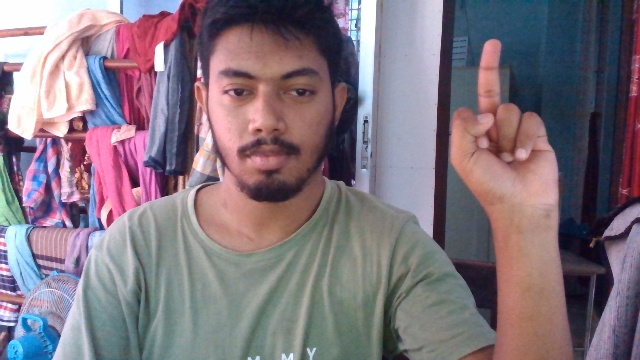fucku: (447, 30, 563, 231)
